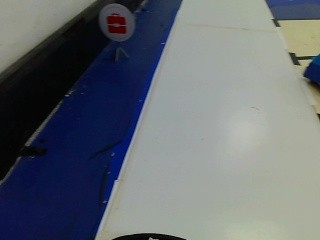company: (96, 1, 135, 42)
